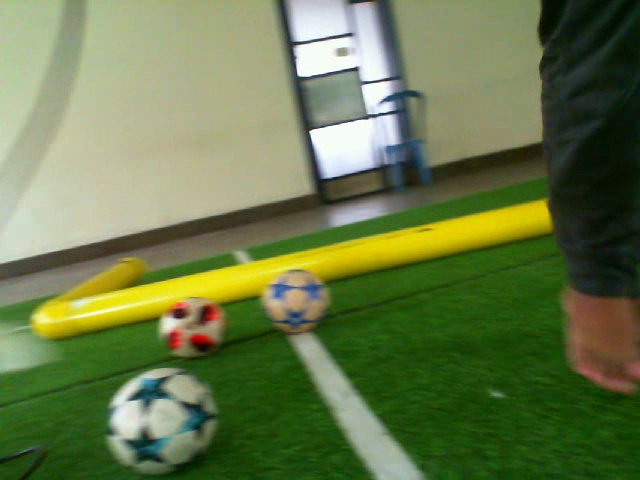ball: (101, 363, 224, 480), (258, 266, 334, 336), (155, 293, 230, 363)
